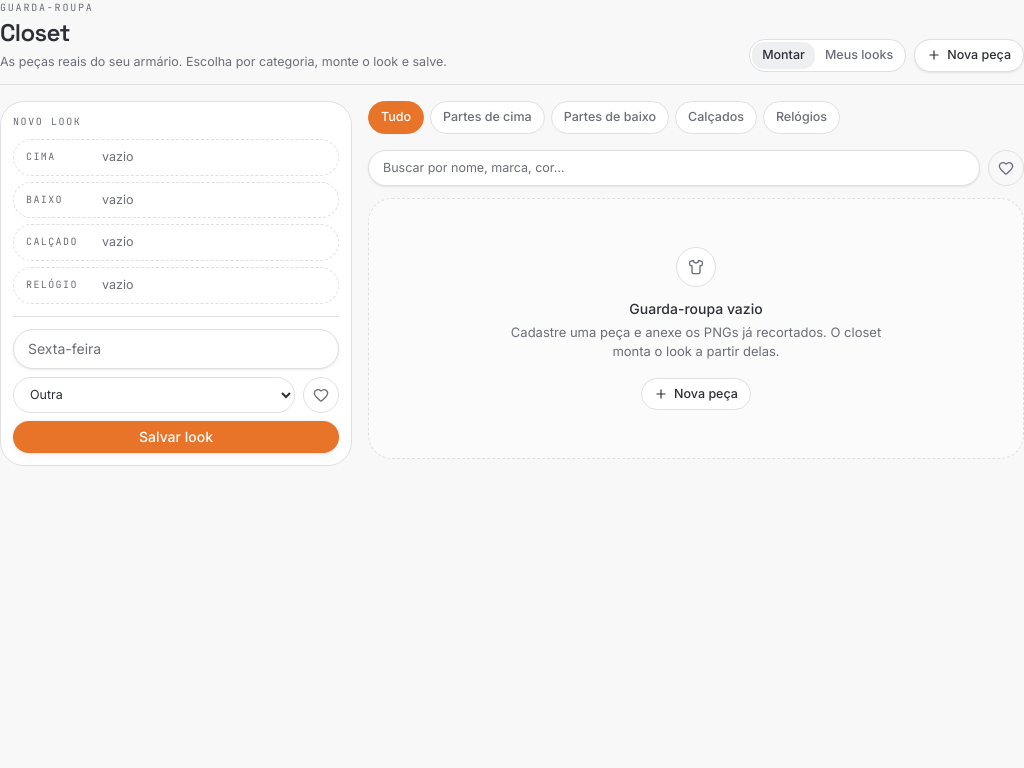
it: cataloguing a piece › refuses to submit without the required fields
Click the 1st button "Nova peça" at [969, 55], box x1=914 y1=39 x2=1023 y2=72
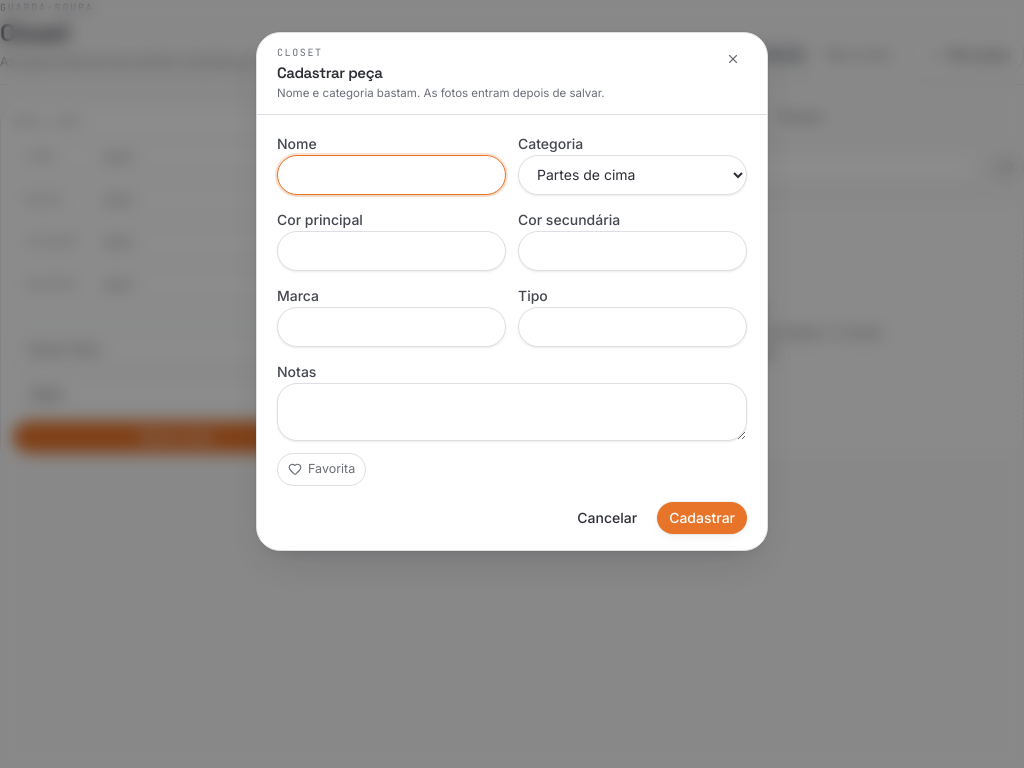
Click the button "Cadastrar" at [702, 518], box x1=657 y1=502 x2=747 y2=534
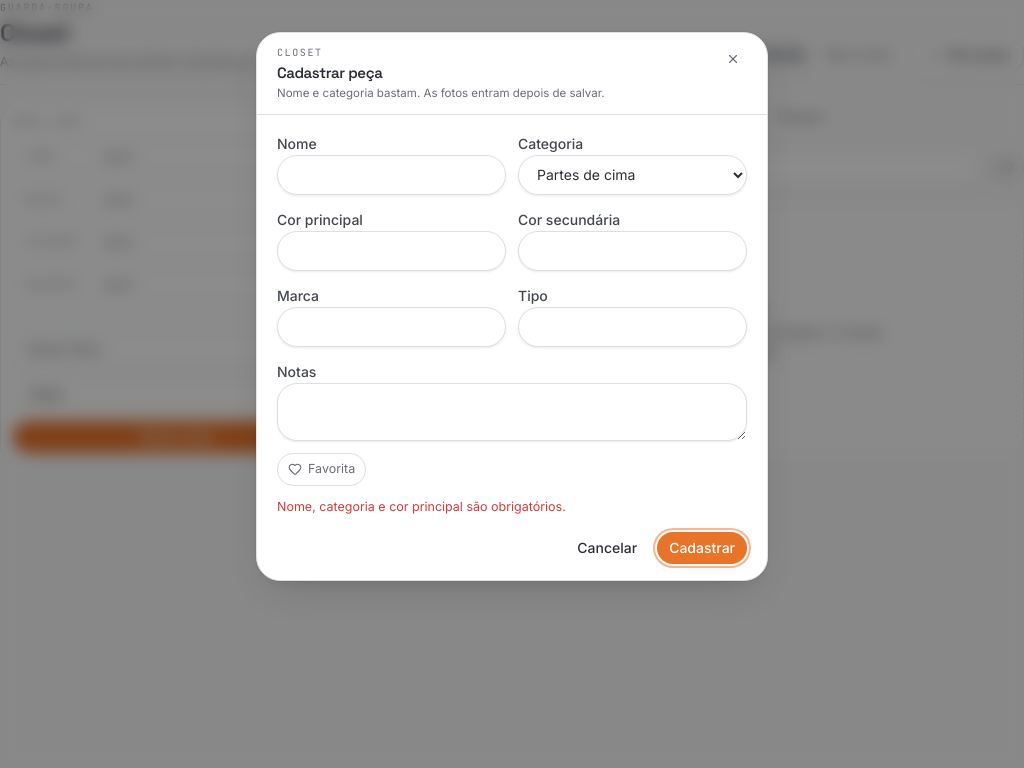
Now the text "Nome, categoria e cor principal são obrigatórios." is shown, box x1=277 y1=498 x2=566 y2=514
